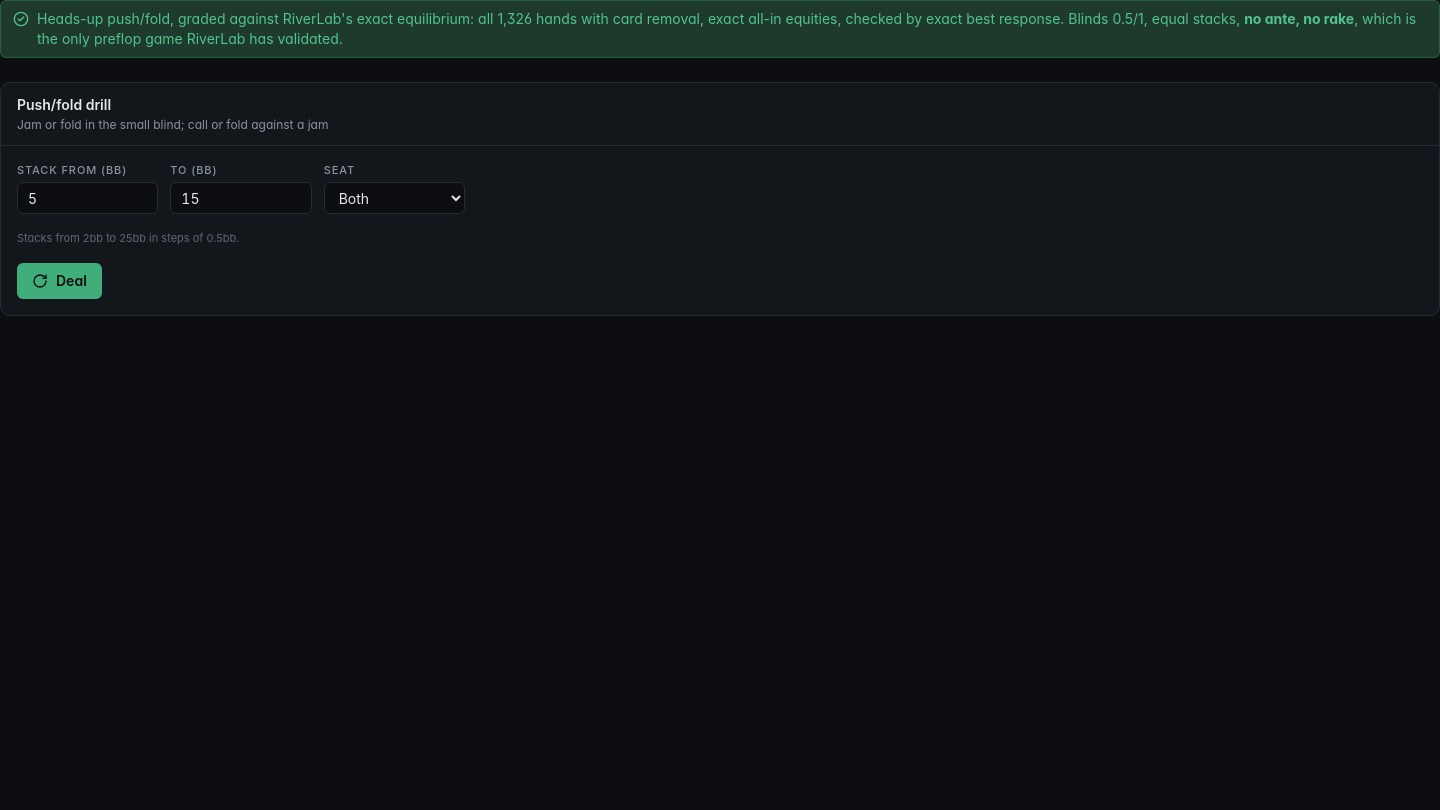
push/fold trainer › deals, grades by EV and keeps a tally
The image size is (1440, 810).
Click the button "Deal" at (59, 280), box 17,262 -> 102,298
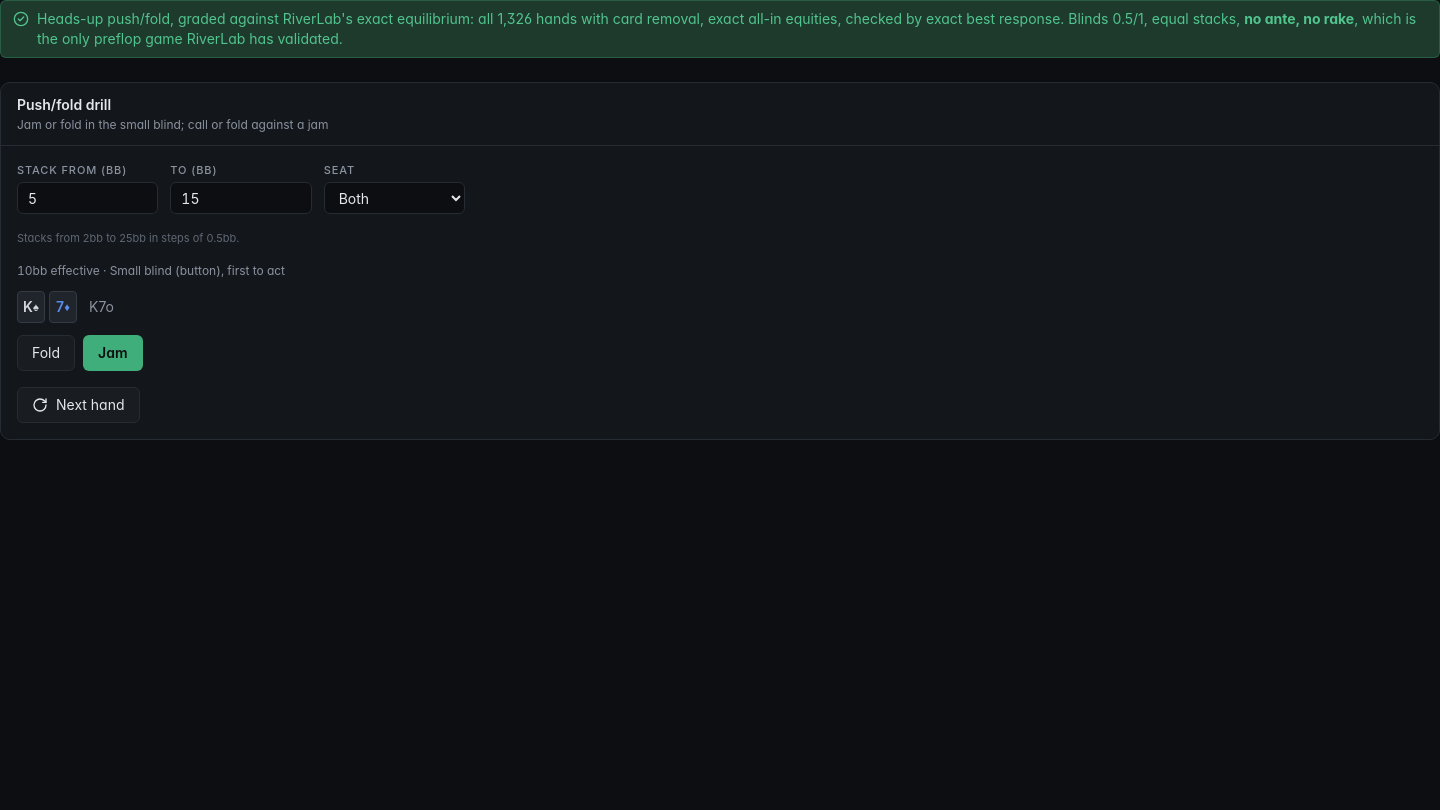
Expected: the text "10bb effective · Small blind (button), first to act" is shown, 17,262 -> 285,278
Click the button "Fold" at (46, 352), box 17,334 -> 75,370
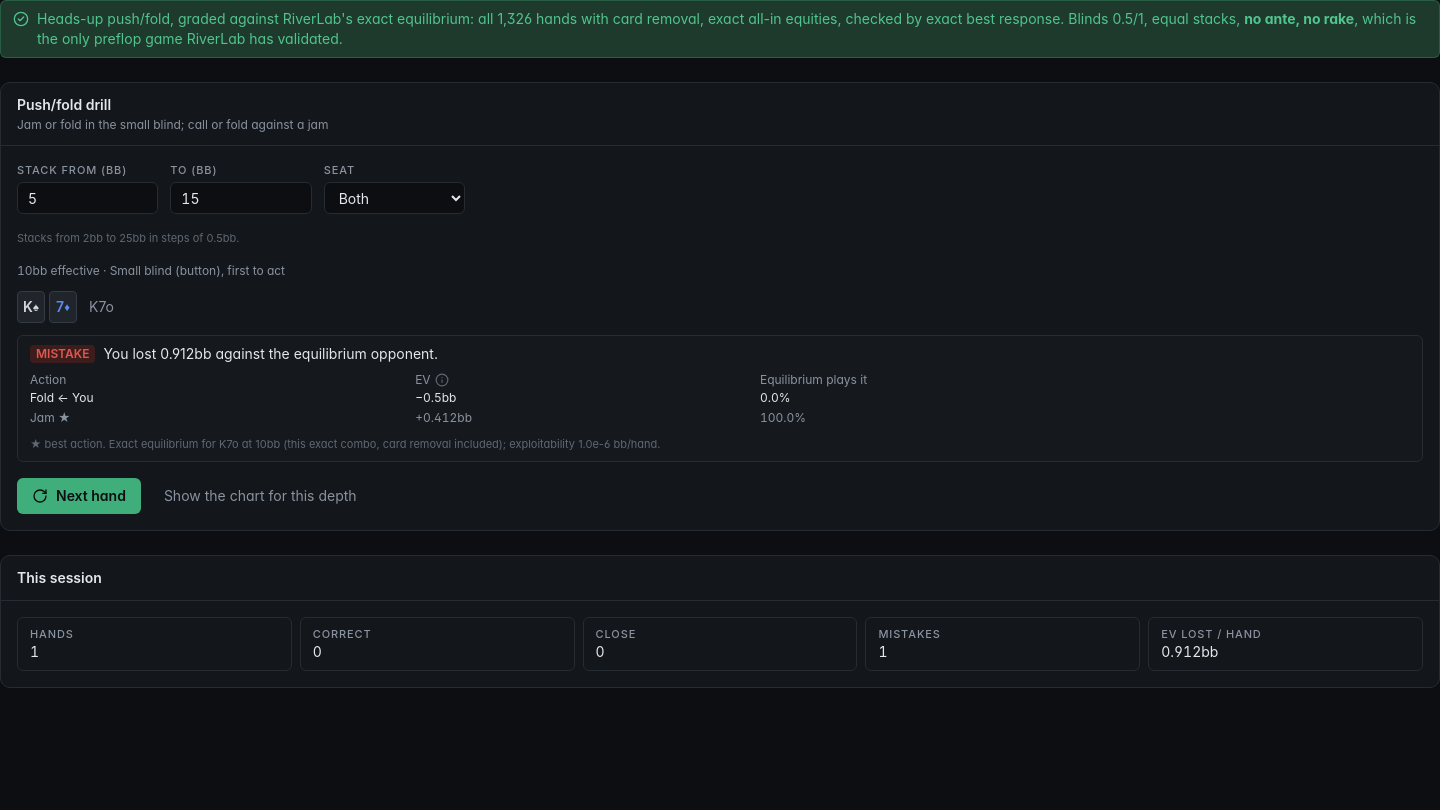
Expected: the text "Mistake" is shown, 30,344 -> 95,362
Expected: the text "You lost 0.912bb against the equilibrium opponent." is shown, 103,344 -> 438,364
Expected: the text "+0.412bb" is shown, 415,408 -> 760,428
